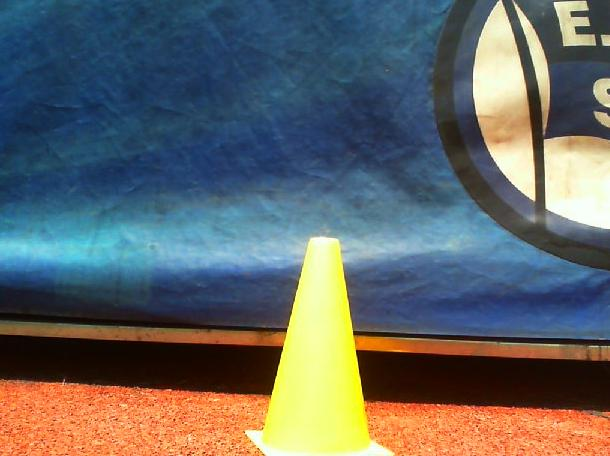0 cone: (243, 236, 395, 456)
